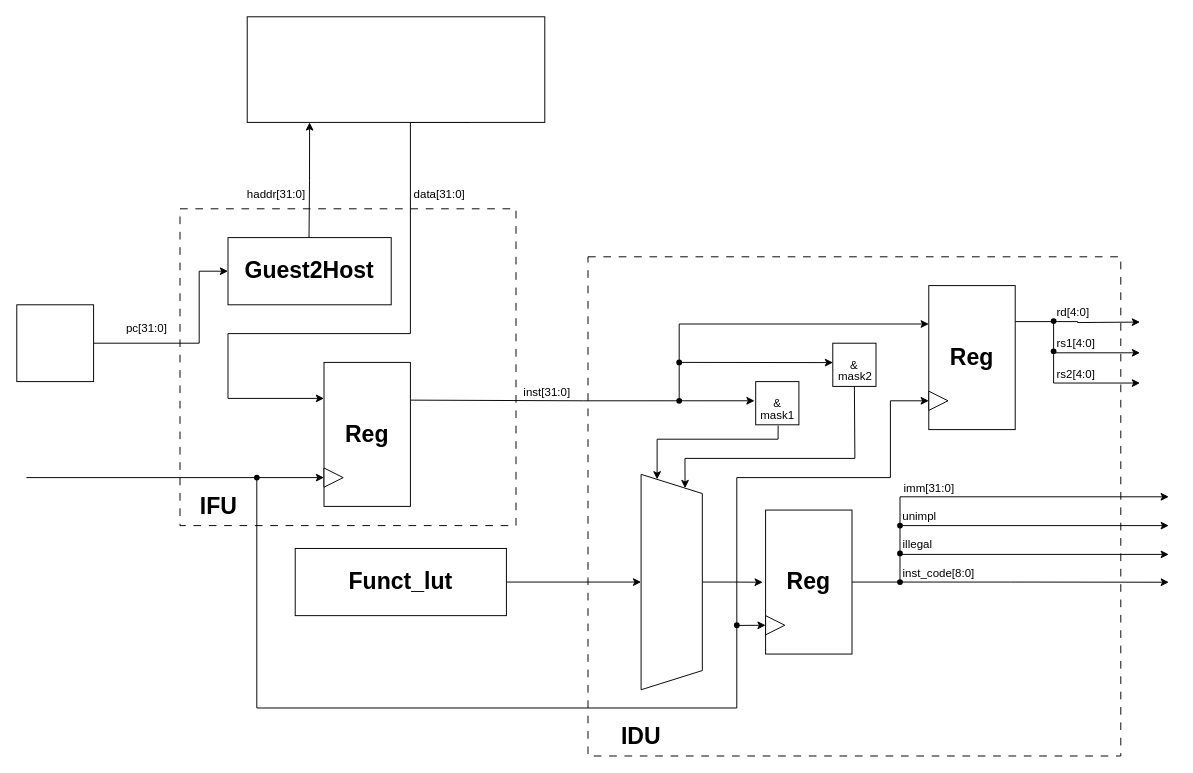
Image size: 1193x773. Some labels were removed from this diagram. Each missing label, with the centre of its shape:
"Instructions Data" belongs at point (395, 69).
"MuxKey" belongs at point (671, 581).
"PC" belongs at point (55, 343).
